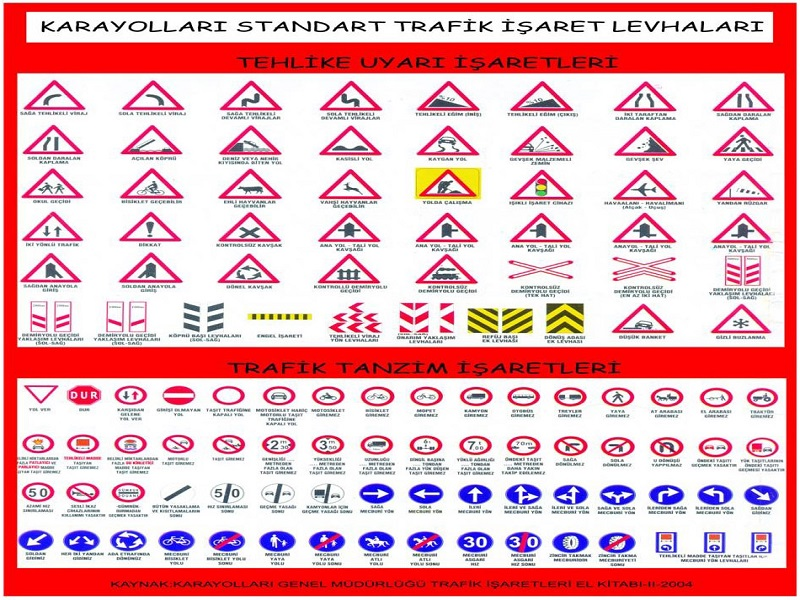sagaDon: (356, 482, 397, 504)
solaDon: (405, 483, 445, 505)
